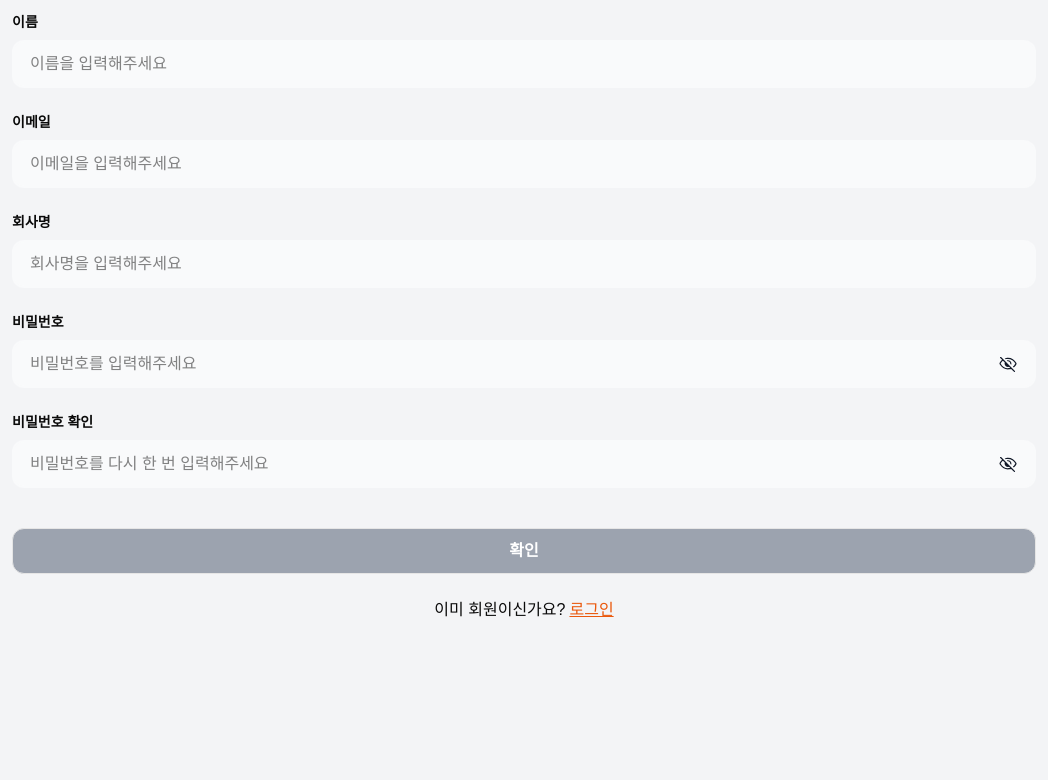
Test: SignupForm 통합 테스트 › 이메일 형식이 맞지 않으면 "이메일 형식이 올바르지 않습니다"라는 에러 메시지가 표시된다 › 1초간 입력 없음 (debounce)
The image size is (1048, 780).
Focus the field labelled "이메일" at (524, 164), box x1=30 y1=152 x2=1018 y2=176
Wait 1000 ms
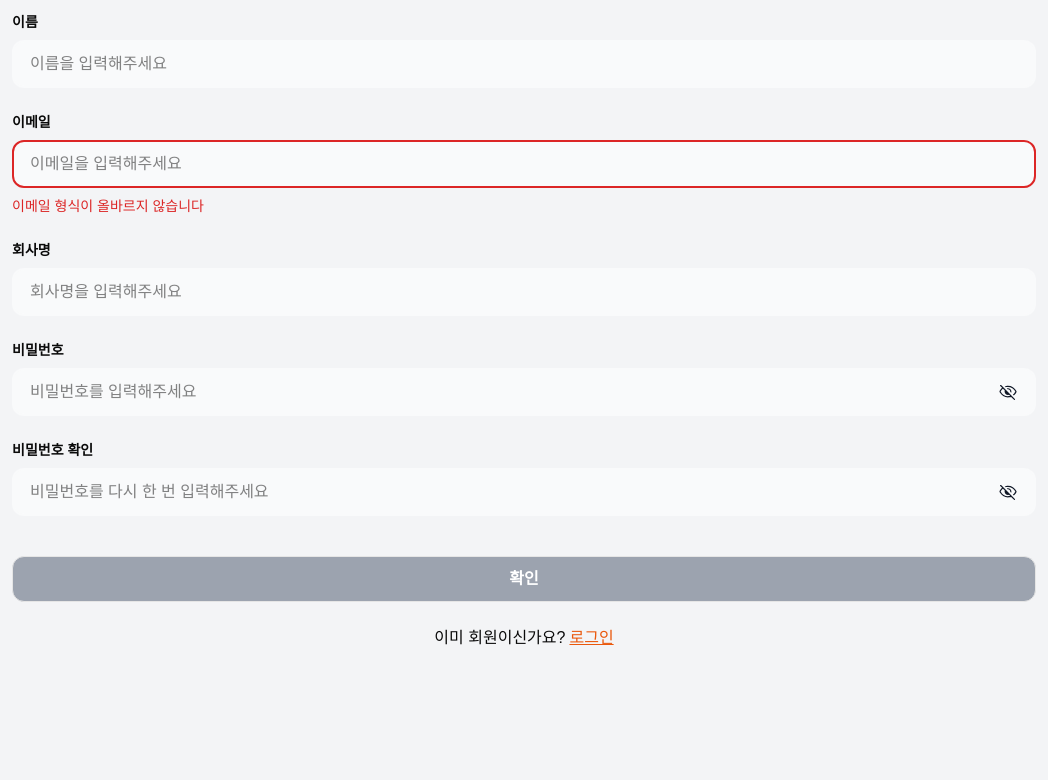
Expected: the text "이메일 형식이 올바르지 않습니다" is shown, x1=12 y1=198 x2=204 y2=214
